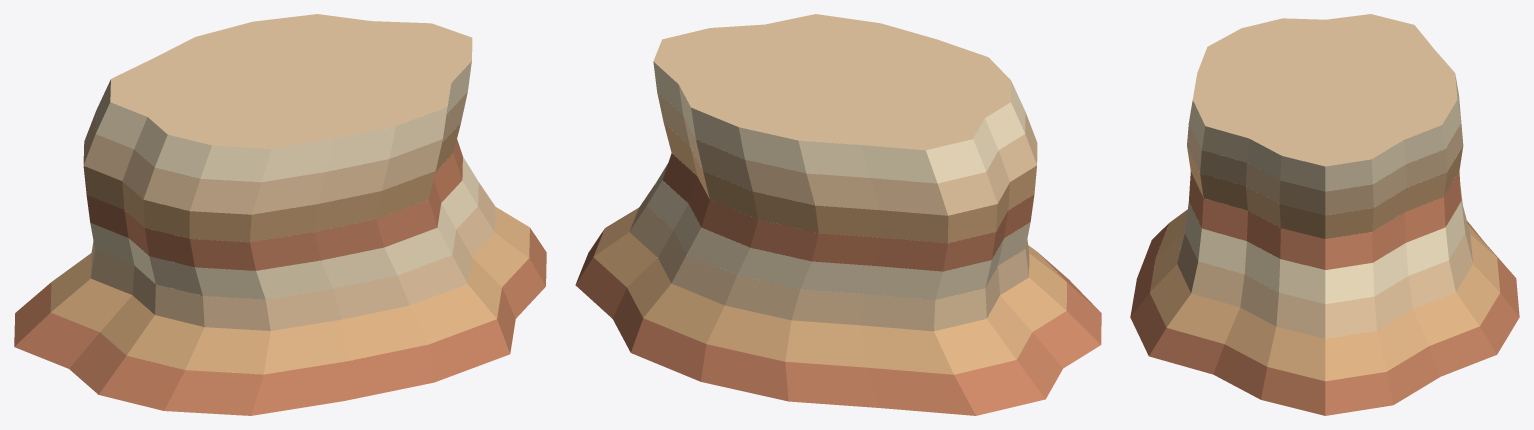
The model's file is desert-canyons-and-oases-mesa-block-53e09516__20916.glb.
3 views of the same model, side by side, from view 1: azimuth 30°, elevation 25°; view 2: azimuth 150°, elevation 25°; view 3: azimuth 270°, elevation 25° (orthographic). The views are drawn at different scales.
Parts seen in each view (by area): view 1: mesa-block; view 2: mesa-block; view 3: mesa-block.
Boxes of the visible parts, left/top/right/bottom form: mesa-block: left=14, top=14, right=546, bottom=415; mesa-block: left=575, top=14, right=1101, bottom=415; mesa-block: left=1130, top=14, right=1519, bottom=415.
Size of the model in its own units: 15.62 by 7 by 11.45.
